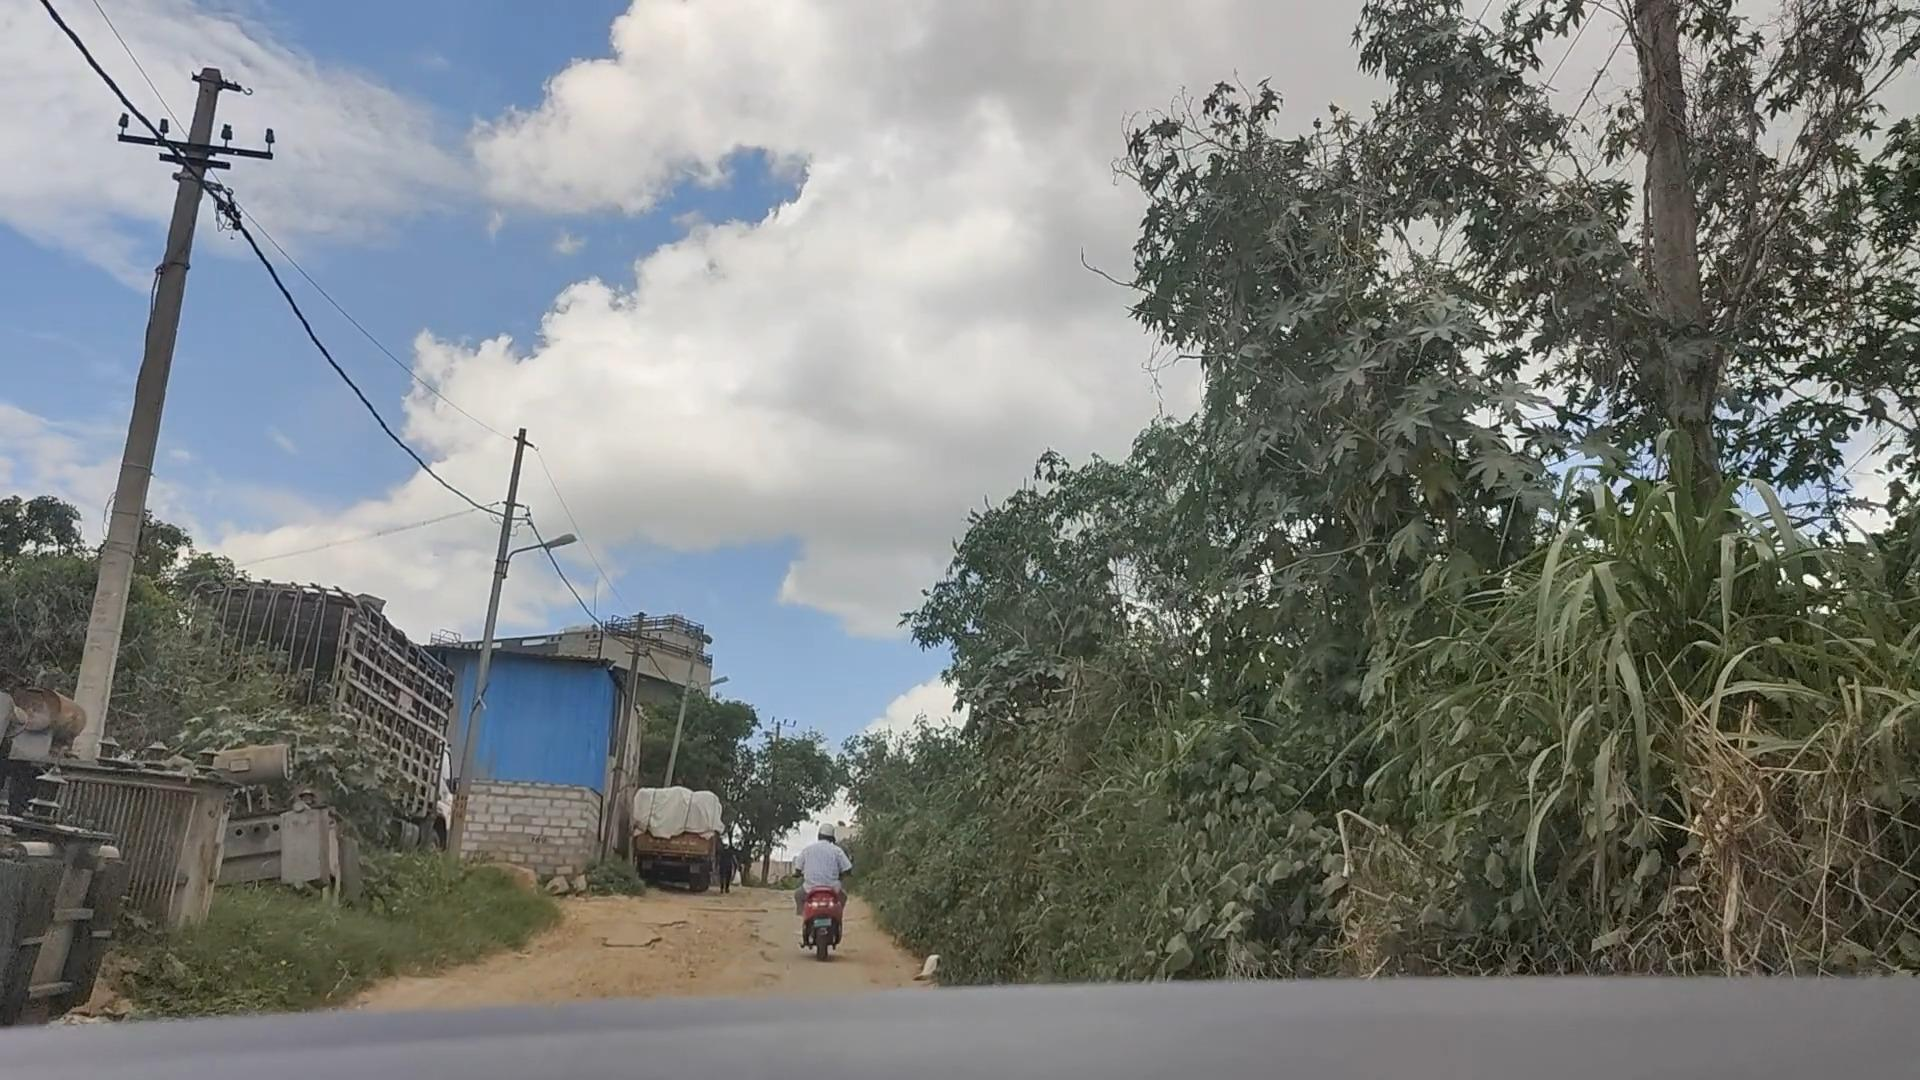HMV: (613, 774, 724, 905)
UnsurfacedRoad: (506, 901, 777, 994)
